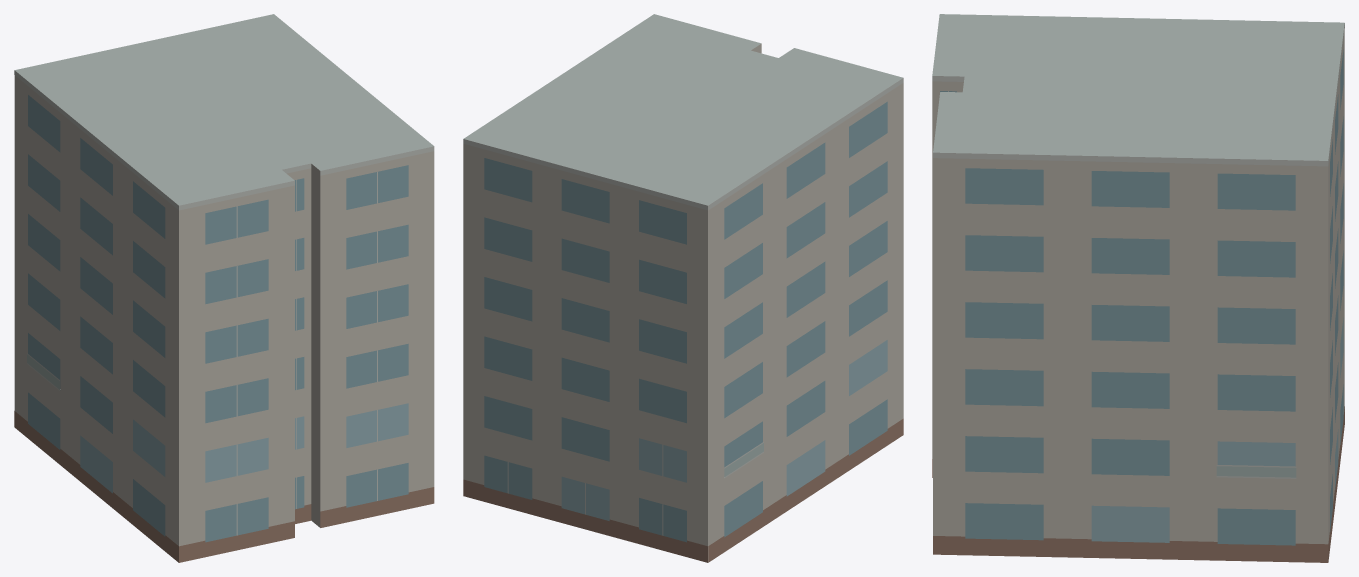
Rendered from survey-upis-32940647.glb.
The picture shows the model from 3 angles, left to right: view 1: azimuth 30°, elevation 25°; view 2: azimuth 150°, elevation 25°; view 3: azimuth 270°, elevation 25°; orthographic projection. The views are drawn at different scales.
Parts seen in each view (by area): view 1: survey-upis-32940647.tmp; view 2: survey-upis-32940647.tmp; view 3: survey-upis-32940647.tmp.
Boxes of the visible parts, x1=… form: survey-upis-32940647.tmp: x1=14, y1=14, x2=434, y2=562; survey-upis-32940647.tmp: x1=463, y1=14, x2=903, y2=562; survey-upis-32940647.tmp: x1=932, y1=14, x2=1344, y2=562.
Bounding box in the file's own units: 14.24 × 18.15 × 16.89.
